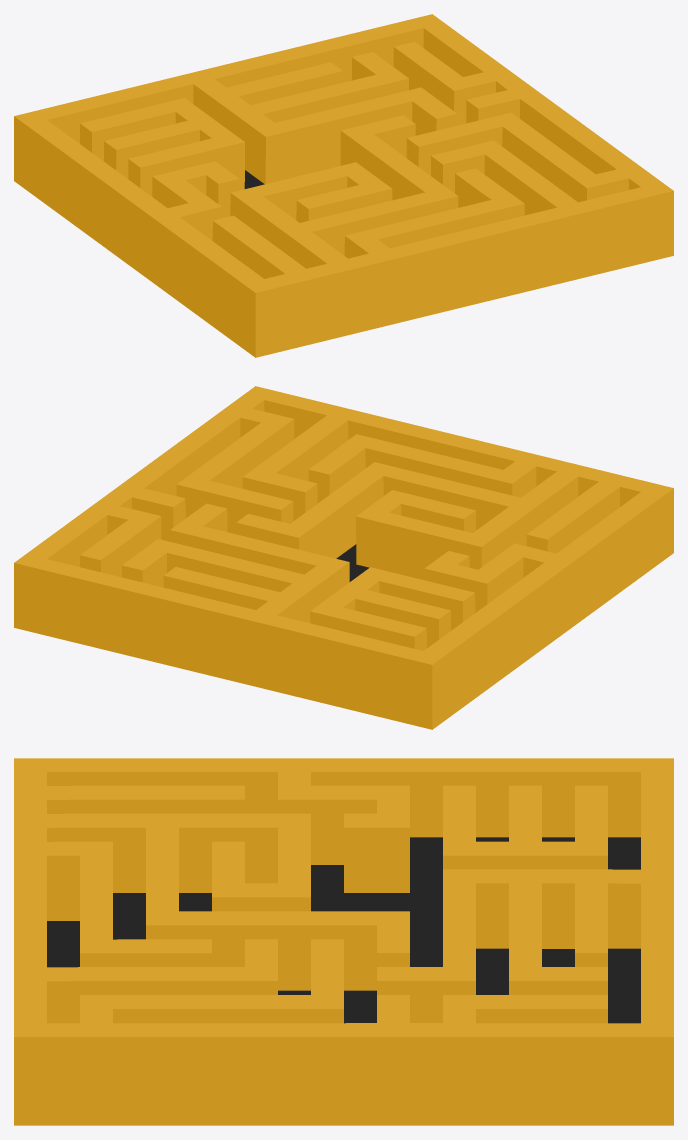
The model's file is Maze.fbx.
The picture shows the model from 3 angles, top to bottom: view 1: azimuth 30°, elevation 25°; view 2: azimuth 150°, elevation 25°; view 3: azimuth 270°, elevation 25°; orthographic projection. The views are drawn at different scales.
Parts seen in each view (by area): view 1: Maze; view 2: Maze; view 3: Maze.
Boxes of the visible parts, bbox=[...] form: Maze: bbox=[14, 14, 673, 357]; Maze: bbox=[14, 386, 673, 729]; Maze: bbox=[14, 758, 673, 1125].
Size of the model in its own units: 1273 by 1273 by 189.
